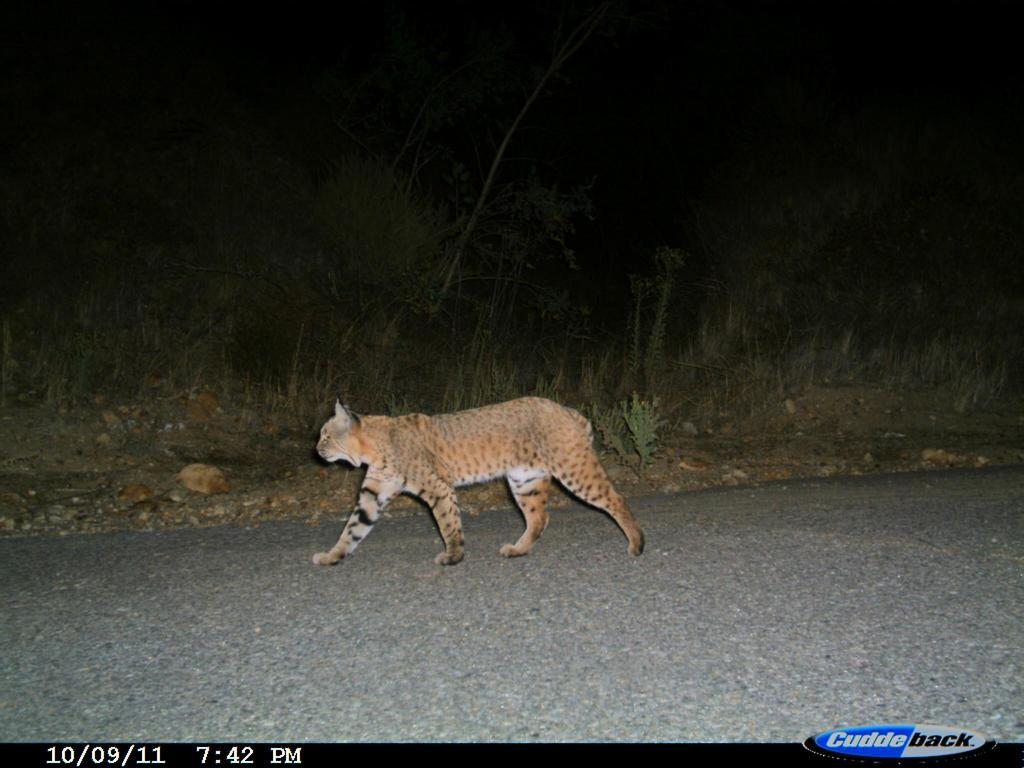bobcat: (305, 385, 665, 573)
